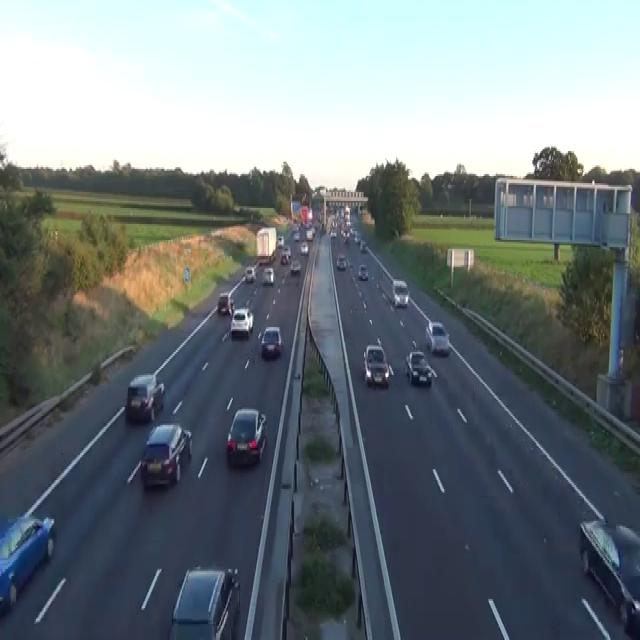Car: (280, 494, 367, 638), (579, 518, 639, 630), (0, 510, 55, 615), (168, 564, 240, 638), (140, 421, 192, 487), (226, 407, 267, 466), (125, 372, 165, 422), (363, 343, 390, 386), (404, 350, 432, 386), (425, 320, 450, 356), (259, 326, 282, 358), (230, 308, 253, 336), (391, 279, 409, 308), (217, 292, 234, 314), (262, 266, 275, 284), (357, 263, 368, 279), (245, 266, 256, 282), (290, 258, 301, 274), (336, 252, 346, 268), (281, 246, 291, 260), (300, 240, 308, 254), (305, 228, 314, 240), (280, 252, 288, 265), (342, 229, 350, 242), (359, 240, 368, 251), (354, 231, 361, 244), (277, 235, 284, 247), (293, 229, 299, 240), (320, 222, 325, 233), (330, 230, 336, 238), (348, 262, 353, 270)
Truck: (256, 226, 276, 265)
